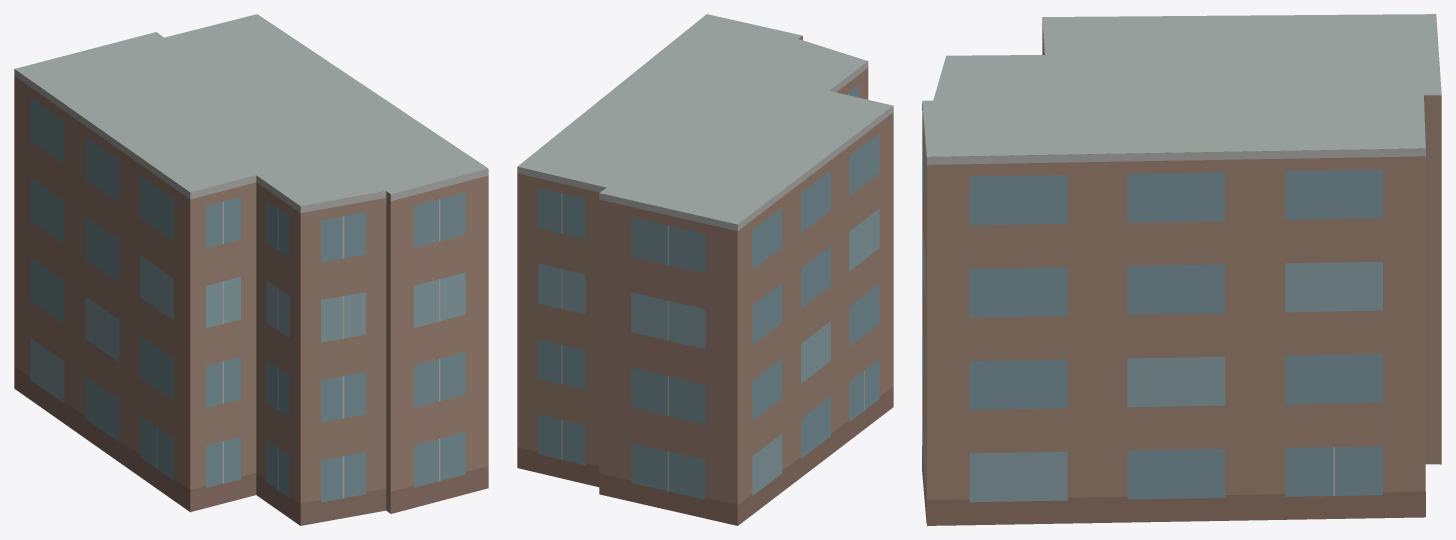
Rendered from survey-upis-32656416.glb.
The picture shows the model from 3 angles, left to right: view 1: azimuth 30°, elevation 25°; view 2: azimuth 150°, elevation 25°; view 3: azimuth 270°, elevation 25°; orthographic projection. The views are drawn at different scales.
Visible parts, largest first — view 1: survey-upis-32656416.tmp; view 2: survey-upis-32656416.tmp; view 3: survey-upis-32656416.tmp.
Boxes of the visible parts, x1=… form: survey-upis-32656416.tmp: x1=14, y1=14, x2=488, y2=525; survey-upis-32656416.tmp: x1=517, y1=14, x2=893, y2=525; survey-upis-32656416.tmp: x1=922, y1=14, x2=1441, y2=525.
Size of the model in its own units: 9.31 by 11.2 by 14.3.
